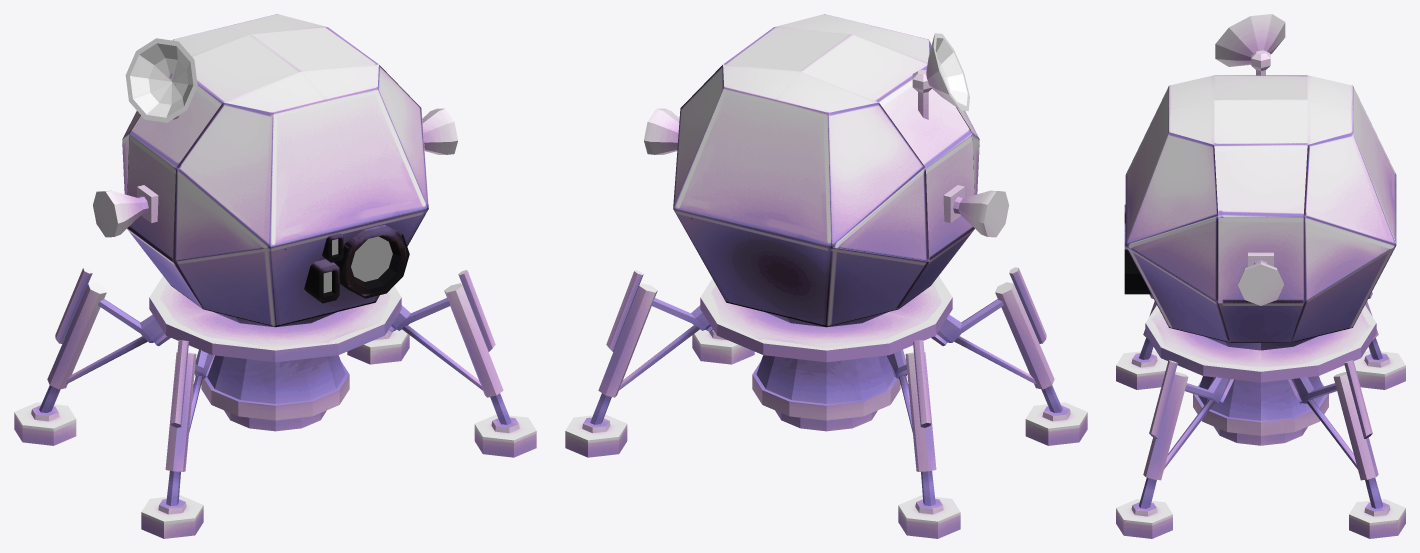
File: Mesh_MoonLander.fbx
The picture shows the model from 3 angles, left to right: view 1: azimuth 30°, elevation 25°; view 2: azimuth 150°, elevation 25°; view 3: azimuth 270°, elevation 25°; orthographic projection. The views are drawn at different scales.
Parts seen in each view (by area): view 1: MoonLander; view 2: MoonLander; view 3: MoonLander.
Part boxes in pixels (x1=…): MoonLander: x1=14, y1=14, x2=536, y2=538; MoonLander: x1=565, y1=14, x2=1087, y2=538; MoonLander: x1=1116, y1=14, x2=1405, y2=538.
Bounding box in the file's own units: 269 × 284 × 191.
